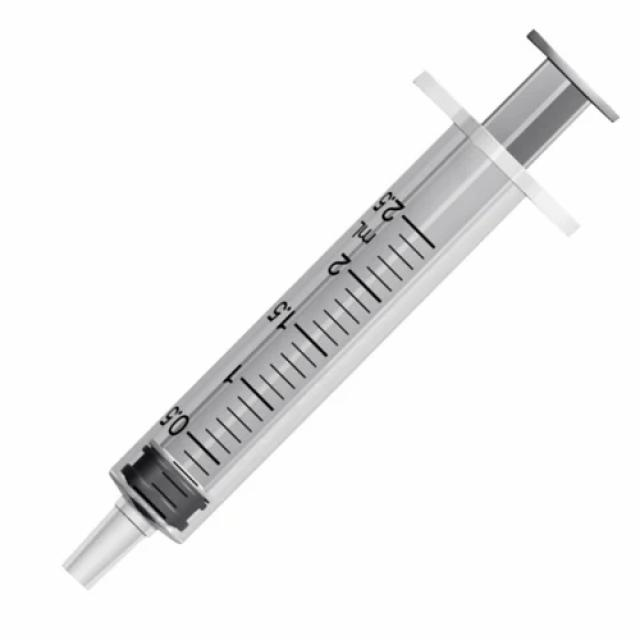syringe: (60, 26, 620, 590)
